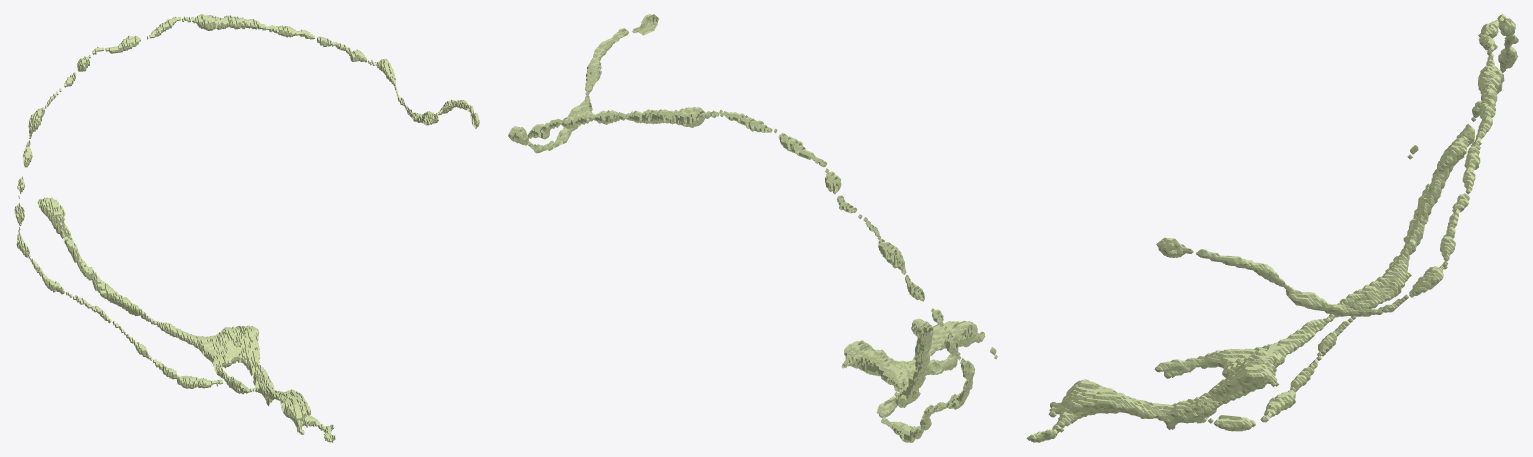
The model's file is SVV_RIVR.gltf.
The picture shows the model from 3 angles, left to right: view 1: azimuth 30°, elevation 25°; view 2: azimuth 150°, elevation 25°; view 3: azimuth 270°, elevation 25°; orthographic projection. The views are drawn at different scales.
Visible parts, largest first — view 1: RIVR; view 2: RIVR; view 3: RIVR.
Part boxes in pixels (x1,y1,x2,y2): RIVR: [14, 14, 479, 442]; RIVR: [508, 14, 997, 442]; RIVR: [1026, 14, 1518, 442].
Bounding box in the file's own units: 138853 × 104869 × 115383.
